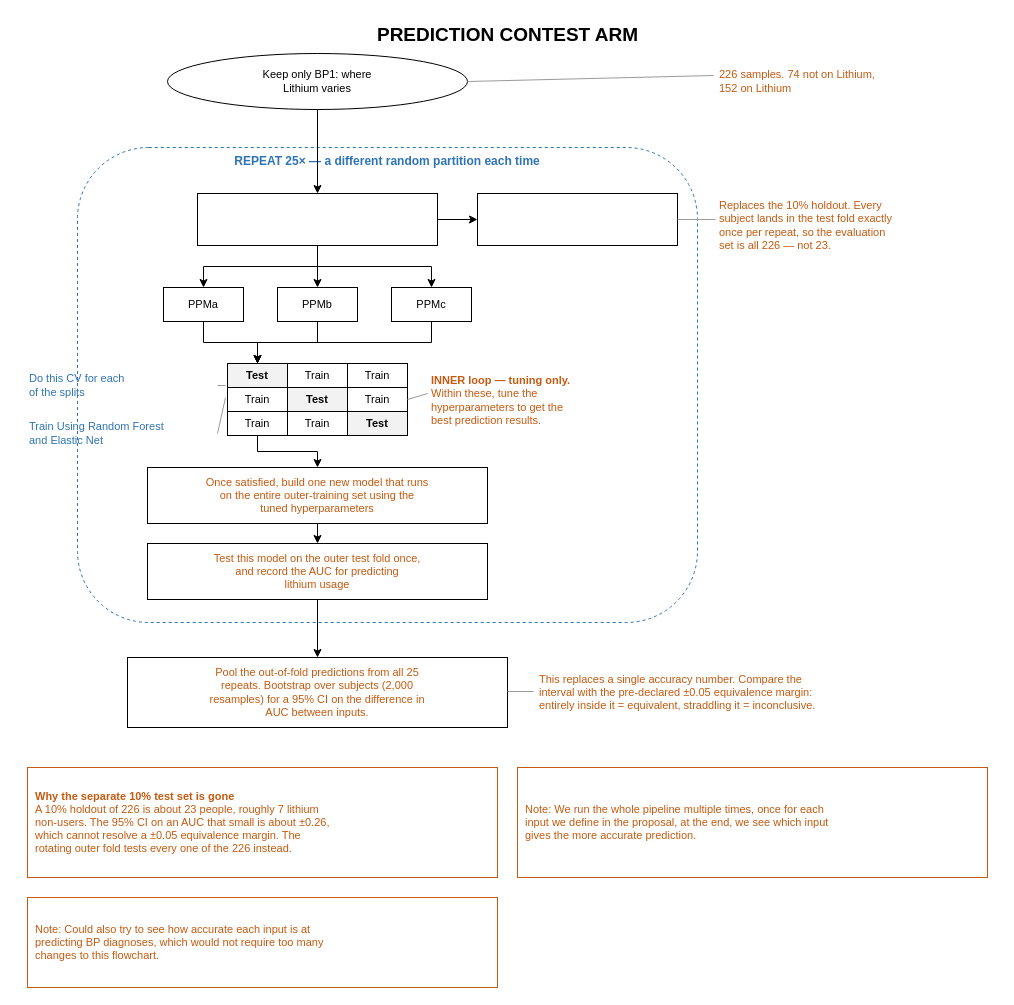
Some shapes in this 1014 by 1005 pixel diagram are drawn without their labels. The centre of each missing label's shape, as x and y in pixels:
"Outer split: stratified 3-fold CV over all 226" belongs at [317,219].
"Outer test fold — one third, rotating" belongs at [577,219].
